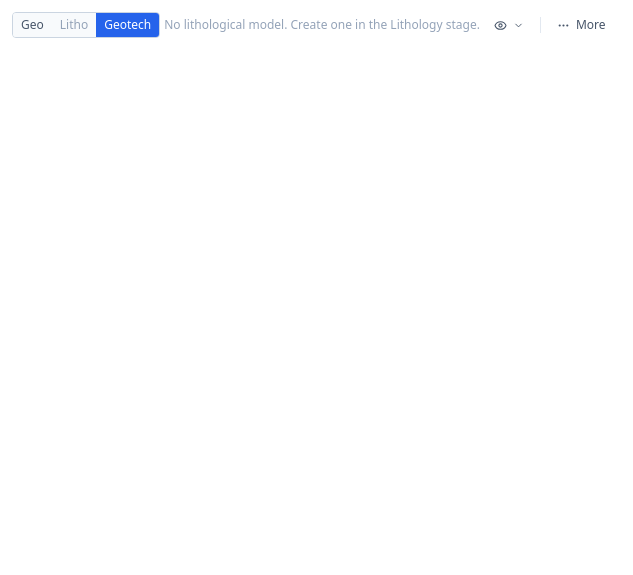
Scenario: the ⋯ More menu of the Sections stage › MM4 — the statistic note is not in the More menu, but the picker is
Click the button with test id "toolbar-overflow-more" at x=581, y=25, box [547,13,616,37]
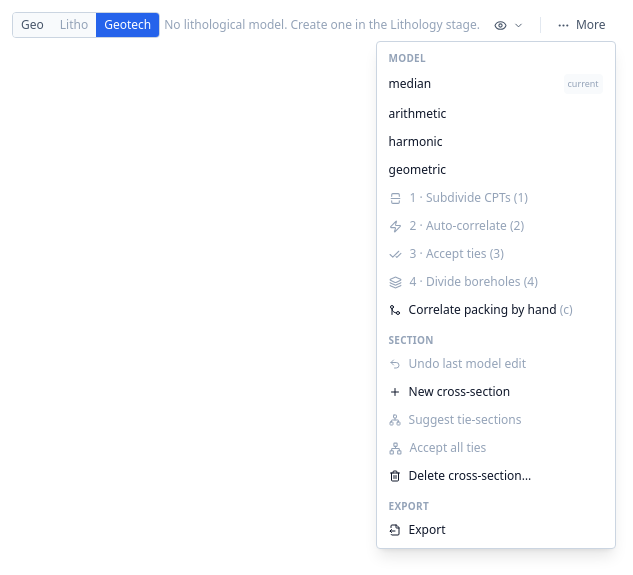
Expected: the menu item with test id "geotech-statistic-median" is shown, [377,68,615,100]
Expected: the menu item with test id "geotech-statistic-harmonic" is shown, [377,128,615,156]
